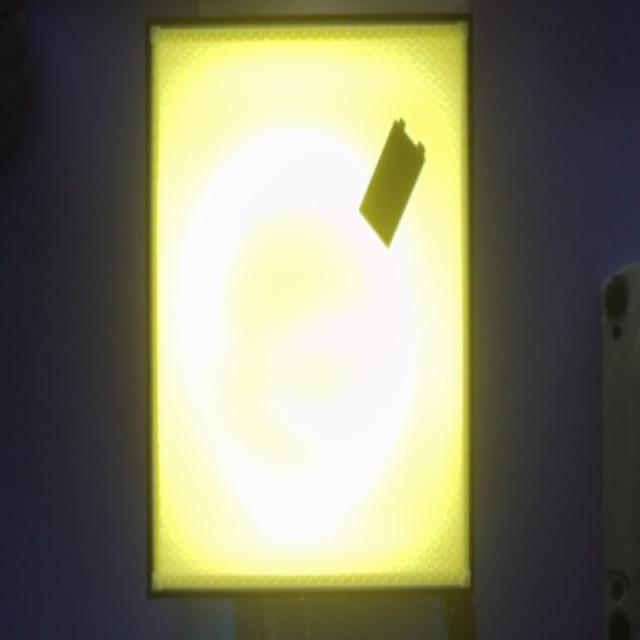bateria: (359, 117, 426, 249)
mesa: (146, 13, 474, 600)
